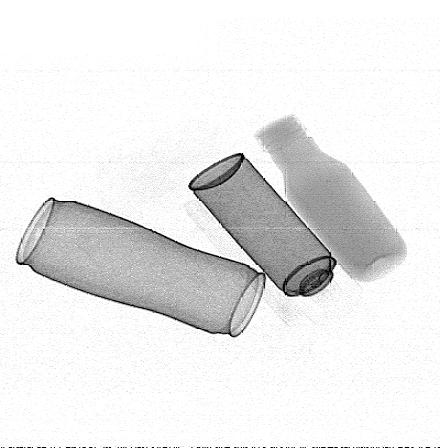Sprayer: (189, 153, 364, 328)
